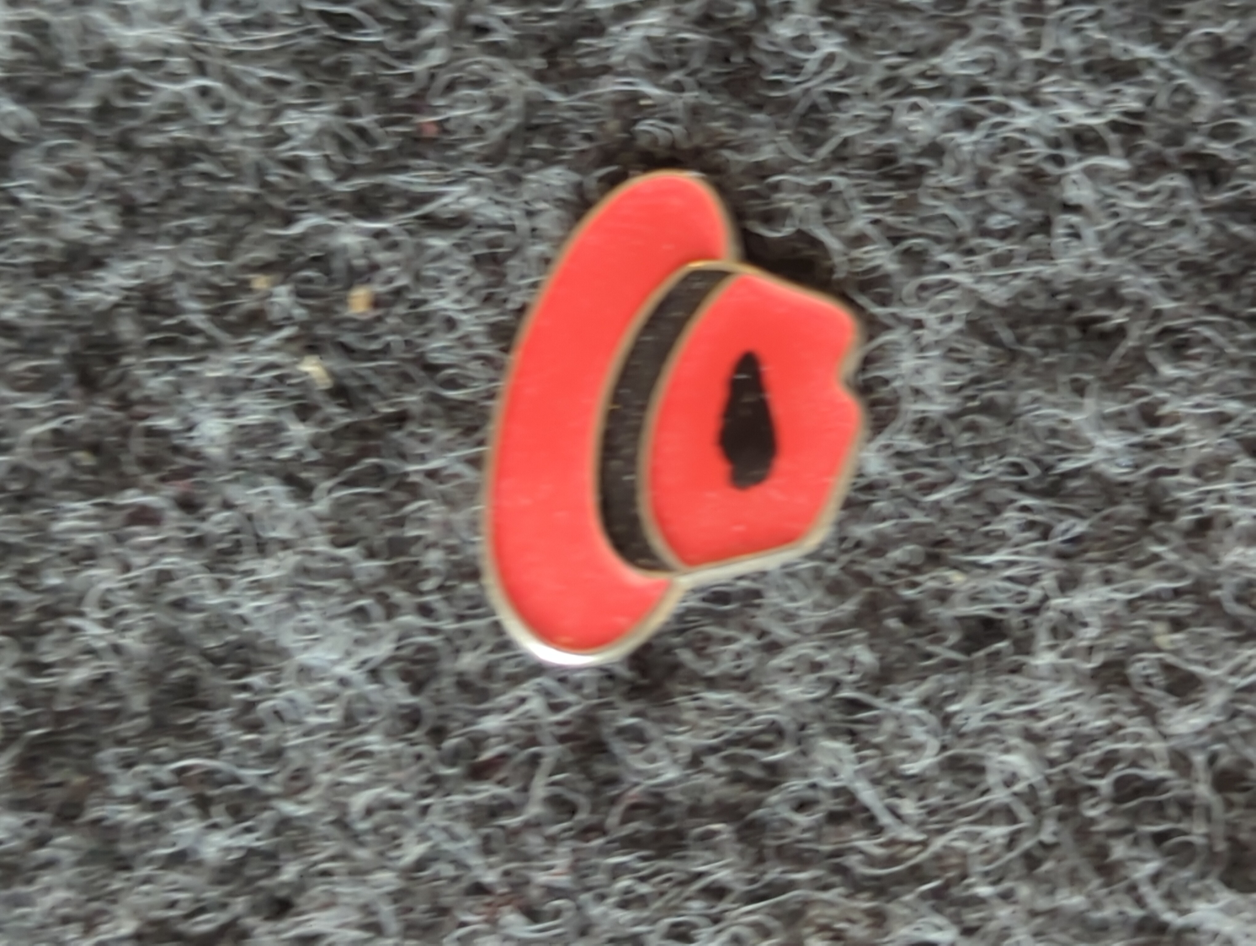Red-Hat: (405, 90, 1009, 759)
Scratch: (674, 298, 854, 521)
